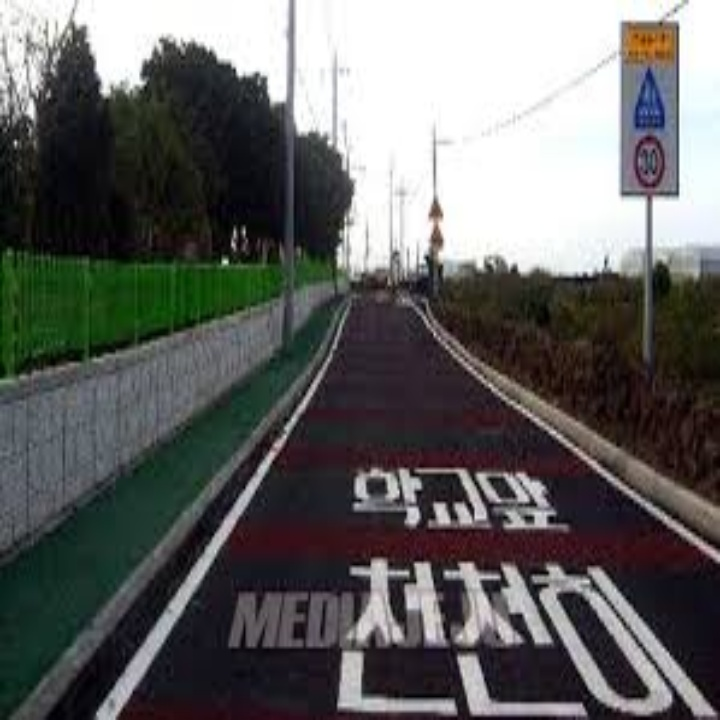child: (627, 73, 673, 119)
